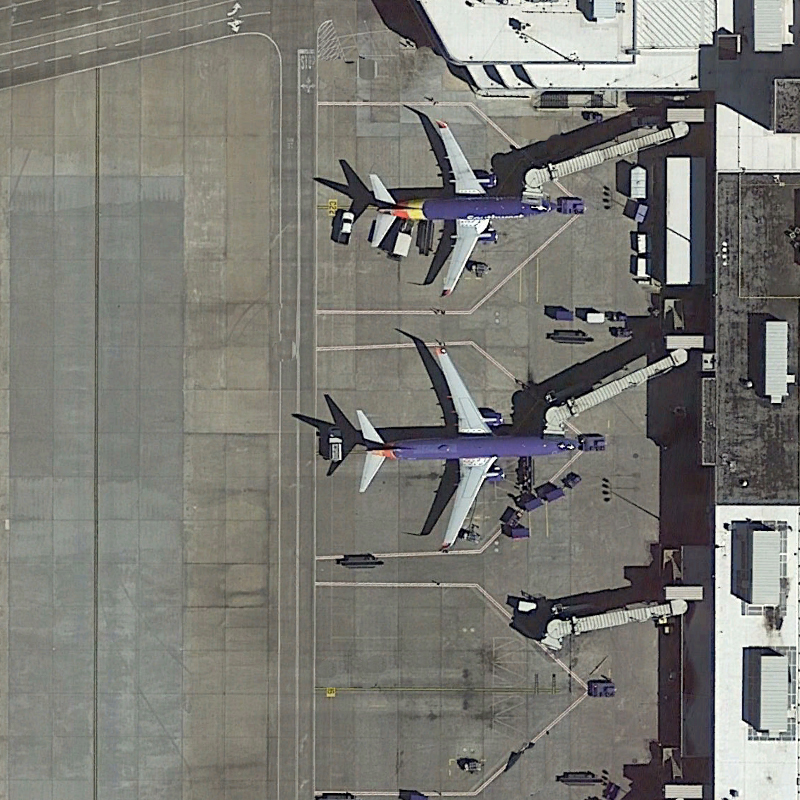airplane: (355, 343, 583, 553), (363, 117, 563, 298)
vehicle: (338, 210, 354, 243)
